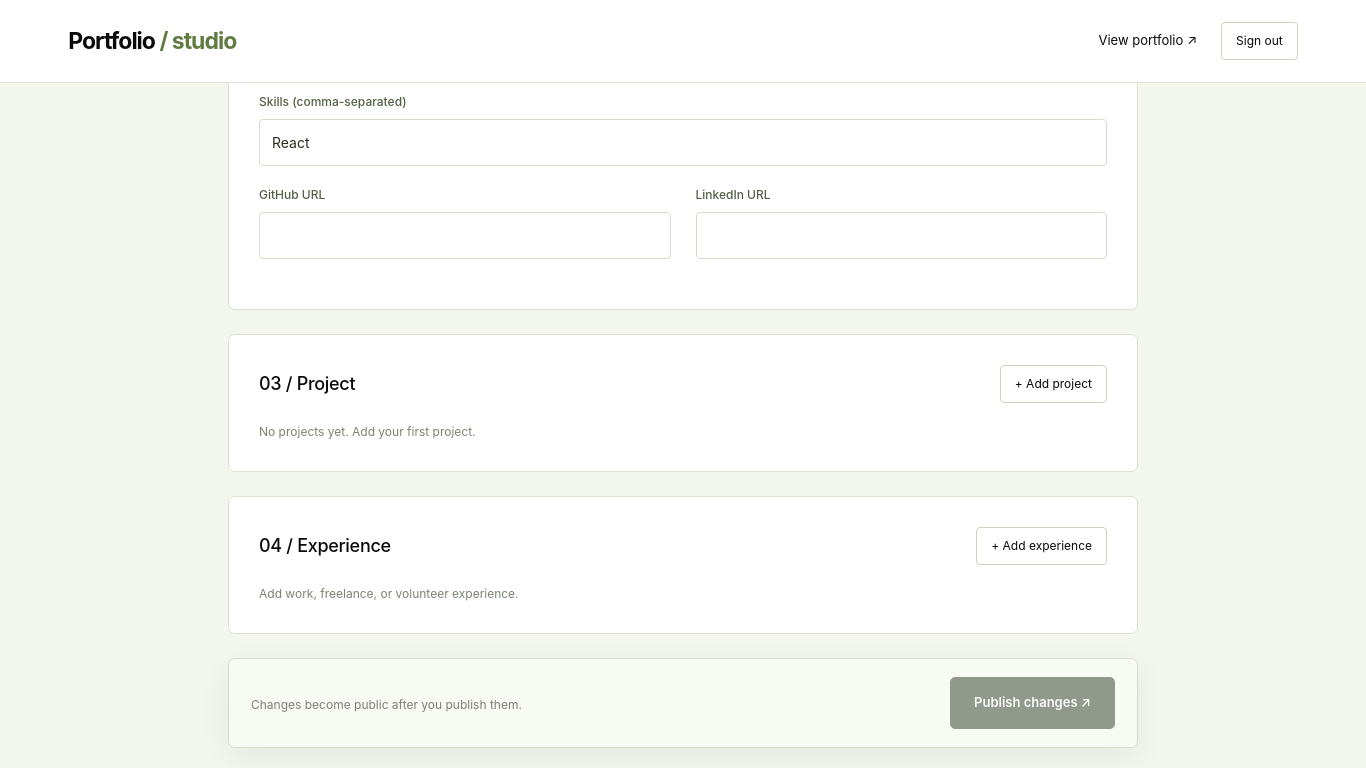
Portfolio and editor › adds and removes project and experience entries
(page scrolled)
Click the button "+ Add project" at (1053,384), box [1000,365,1107,403]
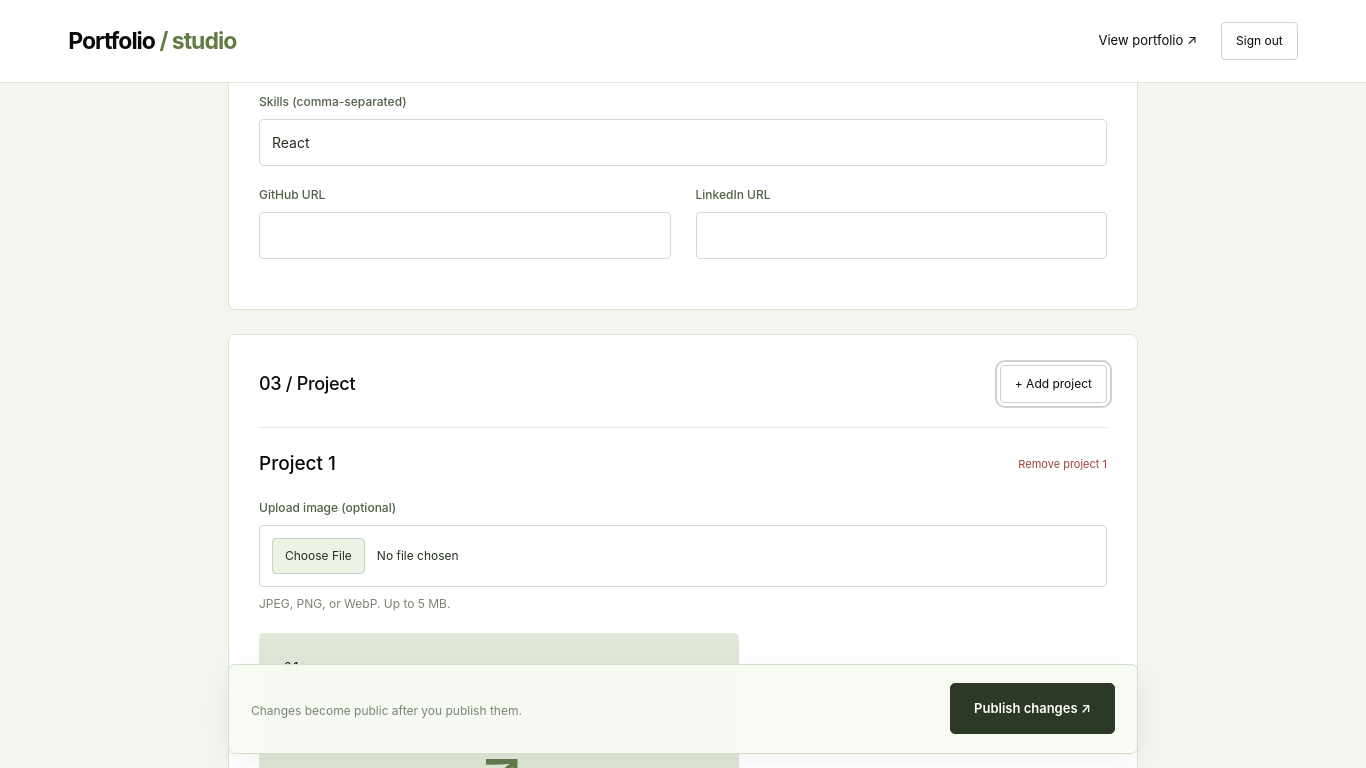
Click the button "Remove project 1" at (1063,464), box [1018,456,1107,472]
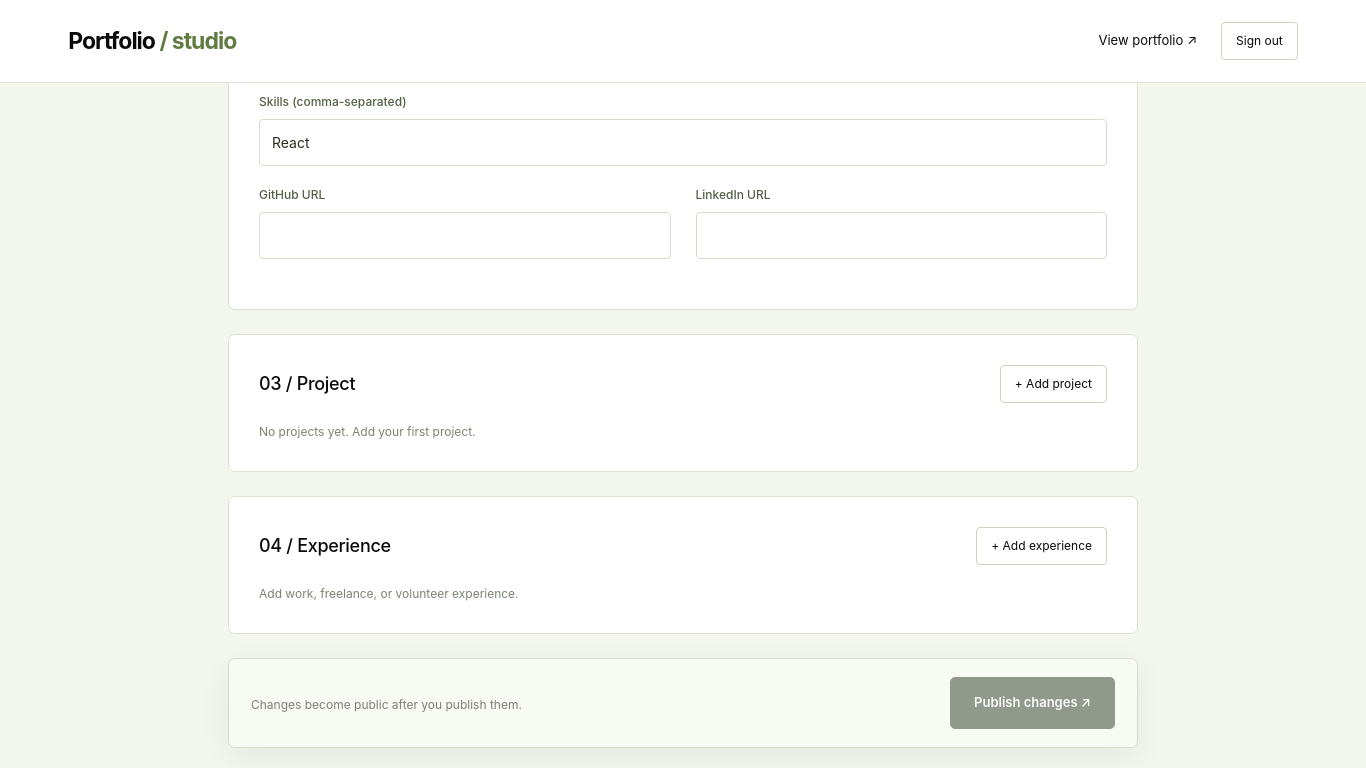
Click the button "+ Add experience" at (1042,546), box [976,527,1107,565]
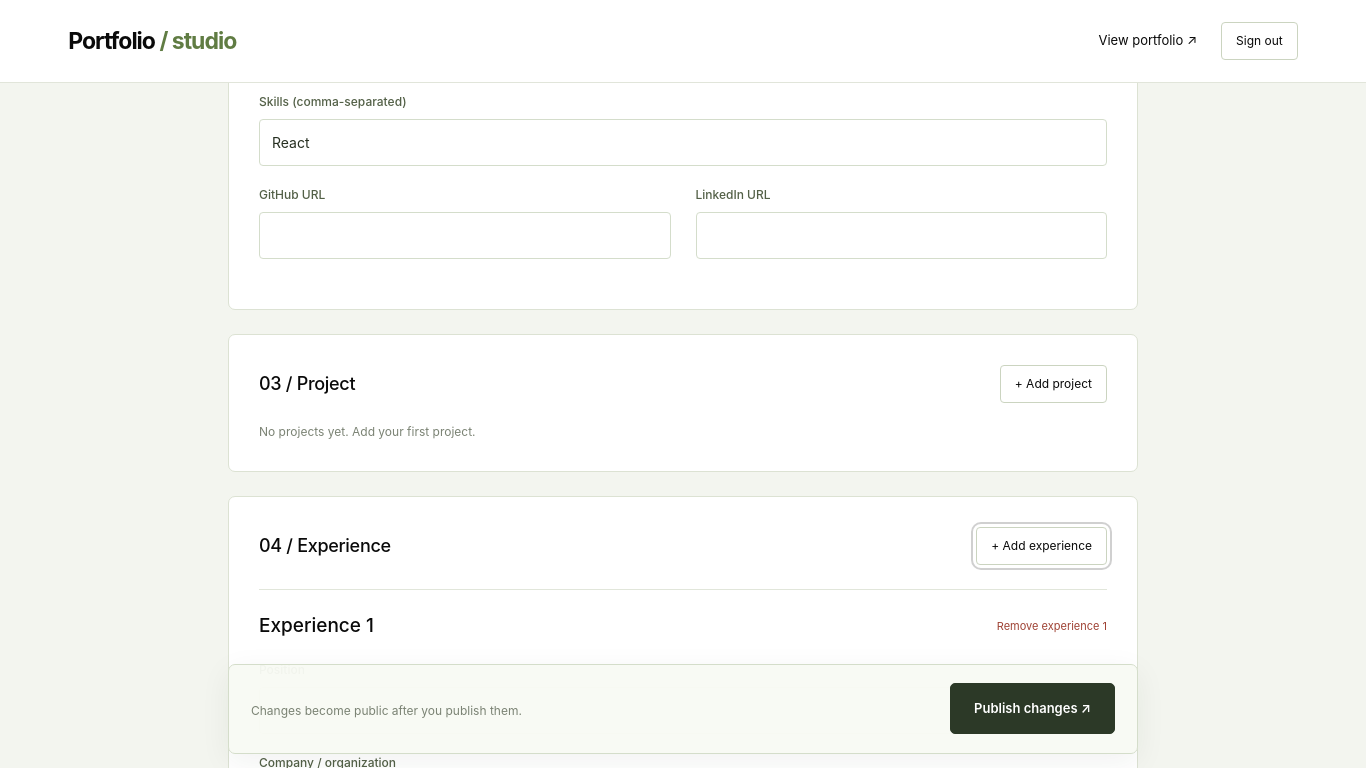
Result: the field labelled "Position" is shown at [259,686,1107,734]
Click the button "Remove experience 1" at (1052,626), box [997,618,1107,634]
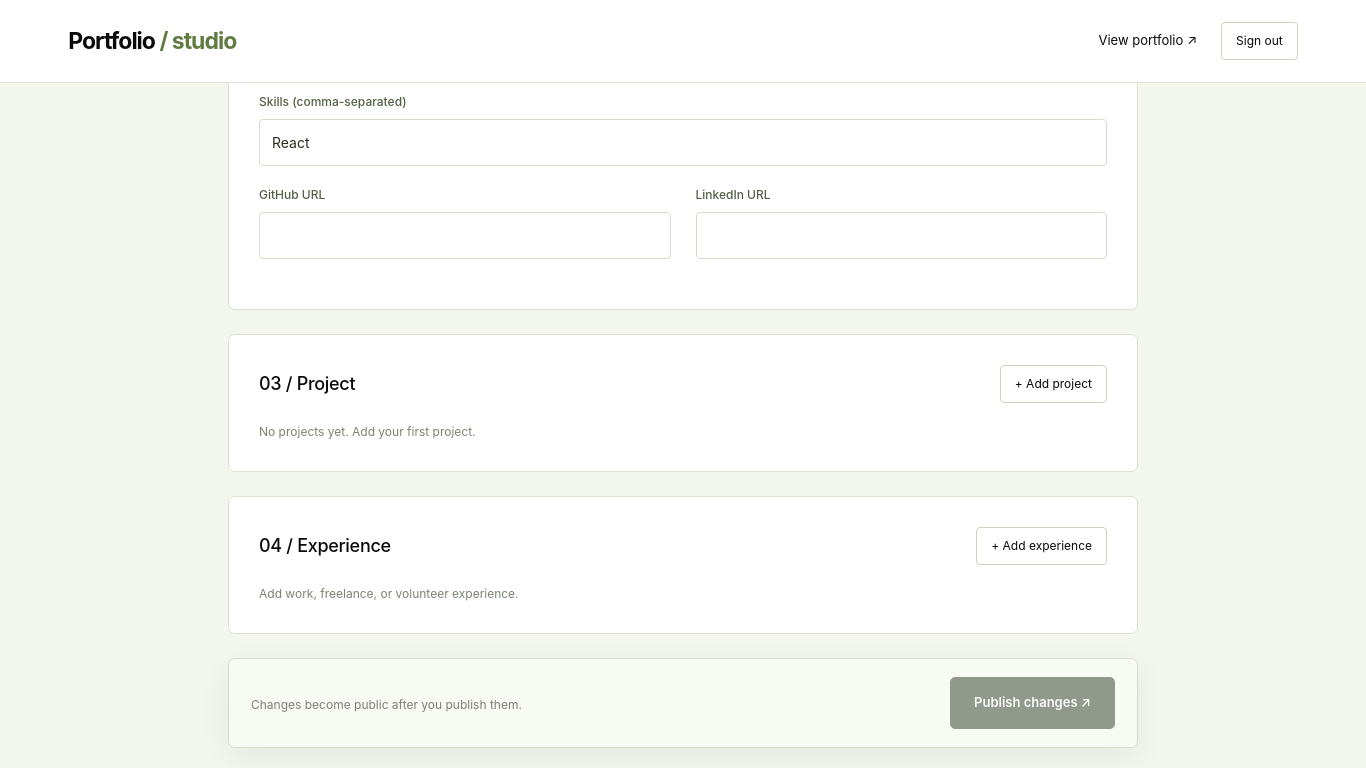
Result: the text labelled "Position" is gone
